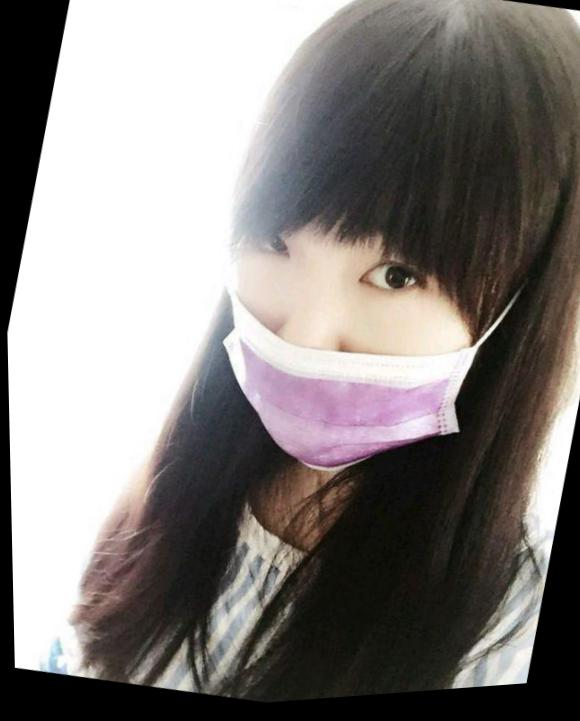WRONG: (181, 167, 514, 513)
